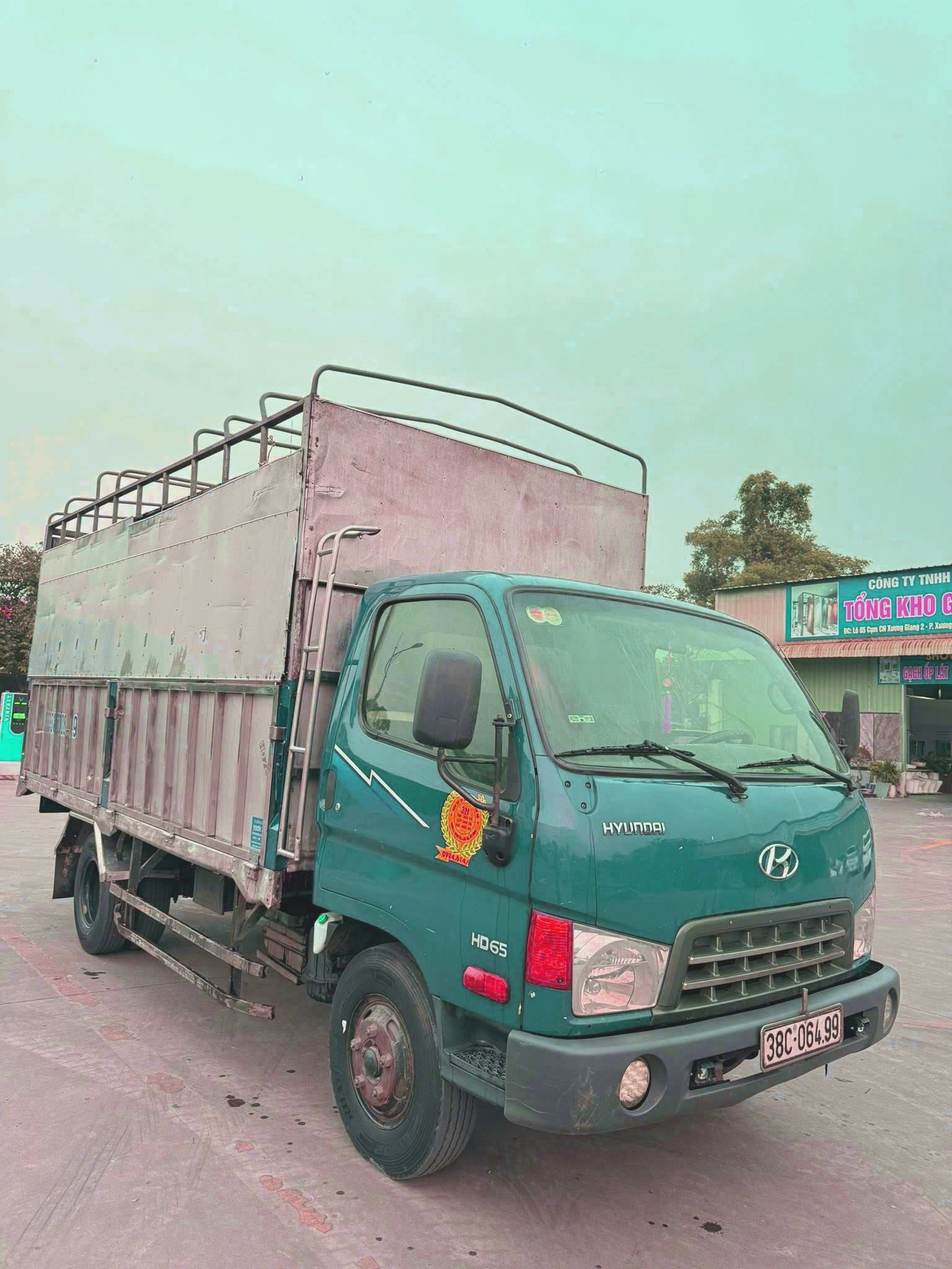Bien-so: (811, 993, 903, 1069)
